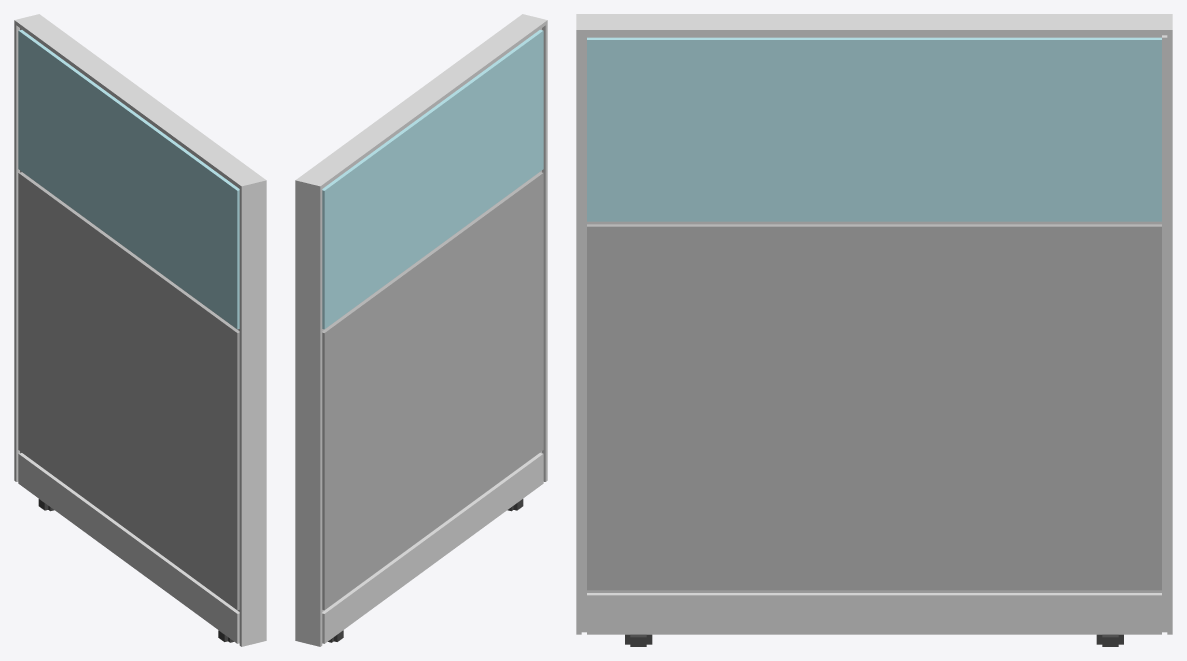
Rendered from Partition1.fbx.
The picture shows the model from 3 angles, left to right: view 1: azimuth 30°, elevation 25°; view 2: azimuth 150°, elevation 25°; view 3: azimuth 270°, elevation 25°; orthographic projection. The views are drawn at different scales.
Visible parts, largest first — view 1: Partition1; view 2: Partition1; view 3: Partition1.
Part boxes in pixels (<box>): Partition1: <box>14,14,266,646</box>; Partition1: <box>295,14,547,646</box>; Partition1: <box>576,14,1172,646</box>.
Bounding box in the file's own units: 0.7 × 12.6 × 11.
